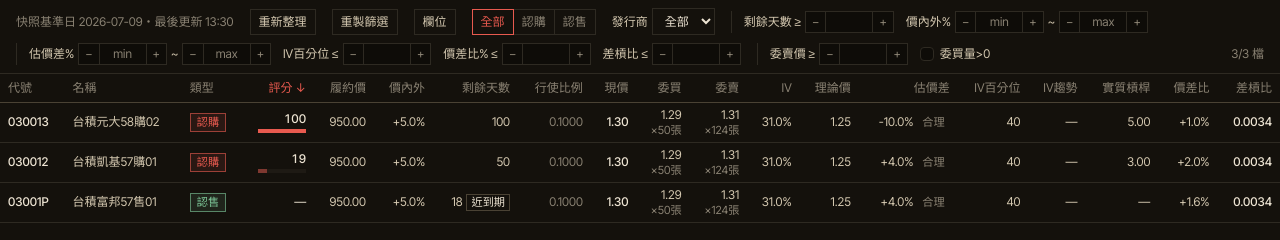
Test case: WarrantSelector 重製篩選(mod warrant-ux-feedback item 3) › 調整篩選與排序後按重製 → 篩選/排序回預設(評分 desc)、input 清空、rows 回全量
Check: the number of rows with test id "warrant-row" is 3, box x1=0 y1=102 x2=1279 y2=142; x1=0 y1=142 x2=1279 y2=182; x1=0 y1=182 x2=1279 y2=222
Step 1. Click the button "認售" → (575, 22), box x1=554 y1=8 x2=596 y2=34
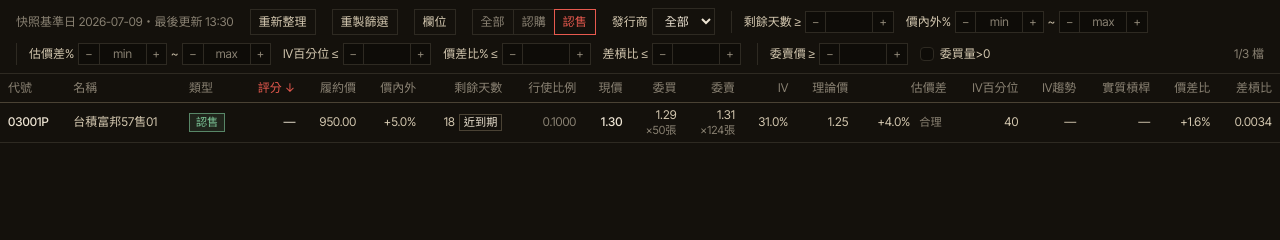
Check: the number of rows with test id "warrant-row" is 1, box x1=0 y1=102 x2=1279 y2=142
Step 2. Type "45" into the number field named "剩餘天數下限" → (849, 22), box x1=825 y1=12 x2=873 y2=32
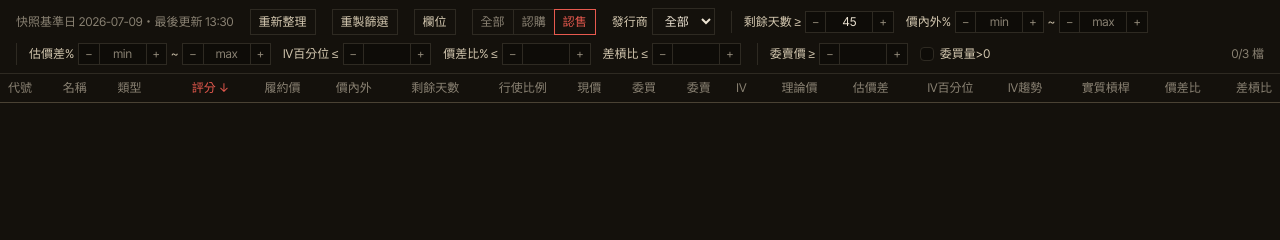
Step 3. Click the button "履約價" → (283, 88), box x1=265 y1=80 x2=301 y2=96
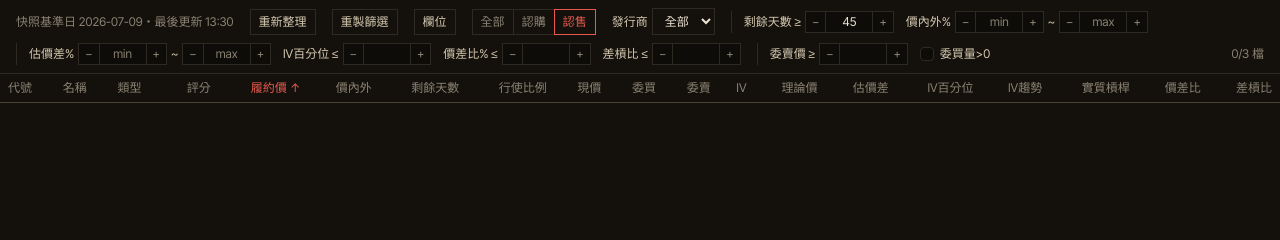
Step 4. Click the button with test id "filter-reset-btn" → (365, 22), box x1=332 y1=8 x2=398 y2=34
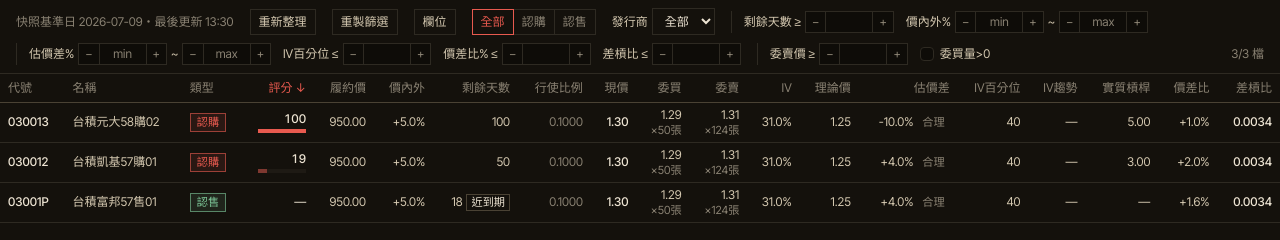
Check: the number of rows with test id "warrant-row" is 3, box x1=0 y1=102 x2=1279 y2=142; x1=0 y1=142 x2=1279 y2=182; x1=0 y1=182 x2=1279 y2=222
Check: the number field named "剩餘天數下限" is empty, box x1=825 y1=12 x2=873 y2=32
